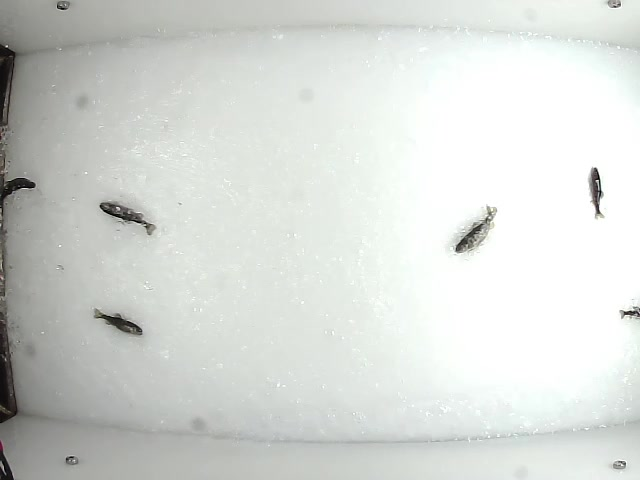fish: (453, 203, 498, 255), (97, 200, 159, 237), (91, 306, 144, 336), (588, 165, 606, 221)
